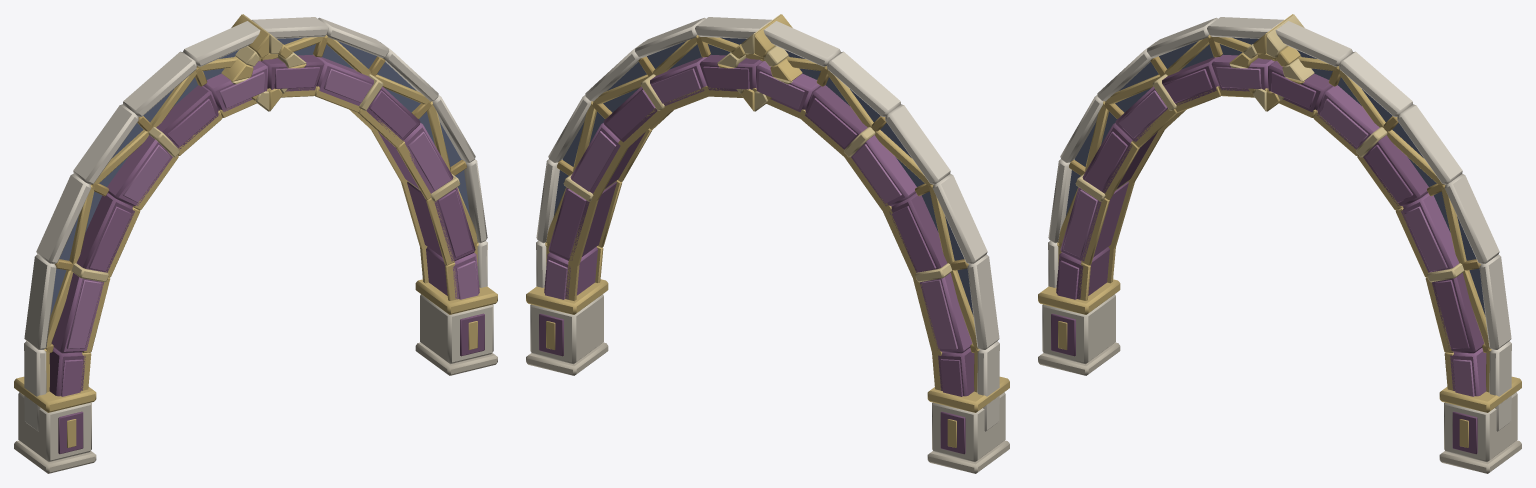
Rendered from skyway_arch.glb.
The picture shows the model from 3 angles, left to right: view 1: azimuth 30°, elevation 25°; view 2: azimuth 150°, elevation 25°; view 3: azimuth 330°, elevation 25°; orthographic projection.
Parts seen in each view (by area): view 1: skyway_arch; view 2: skyway_arch; view 3: skyway_arch.
Part boxes in pixels (bbox=[...]): skyway_arch: bbox=[14, 14, 497, 473]; skyway_arch: bbox=[526, 14, 1009, 473]; skyway_arch: bbox=[1038, 14, 1521, 473].
Size of the model in its own units: 59 by 47.84 by 7.8.
